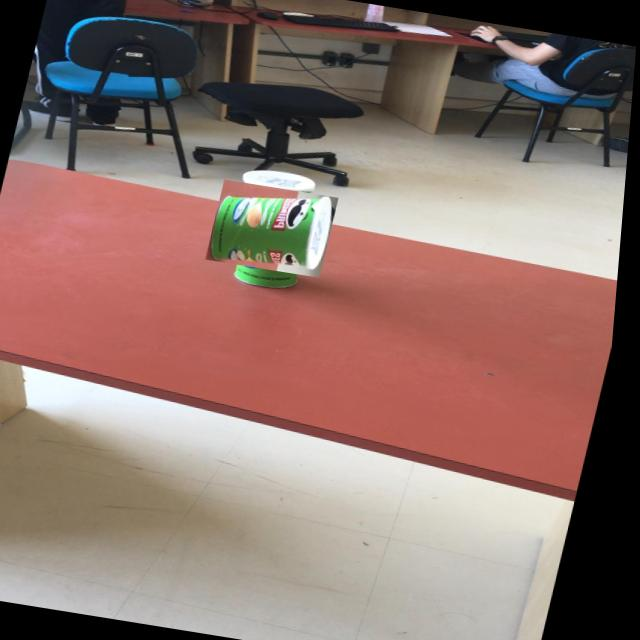a pringles: (215, 172, 336, 286)
